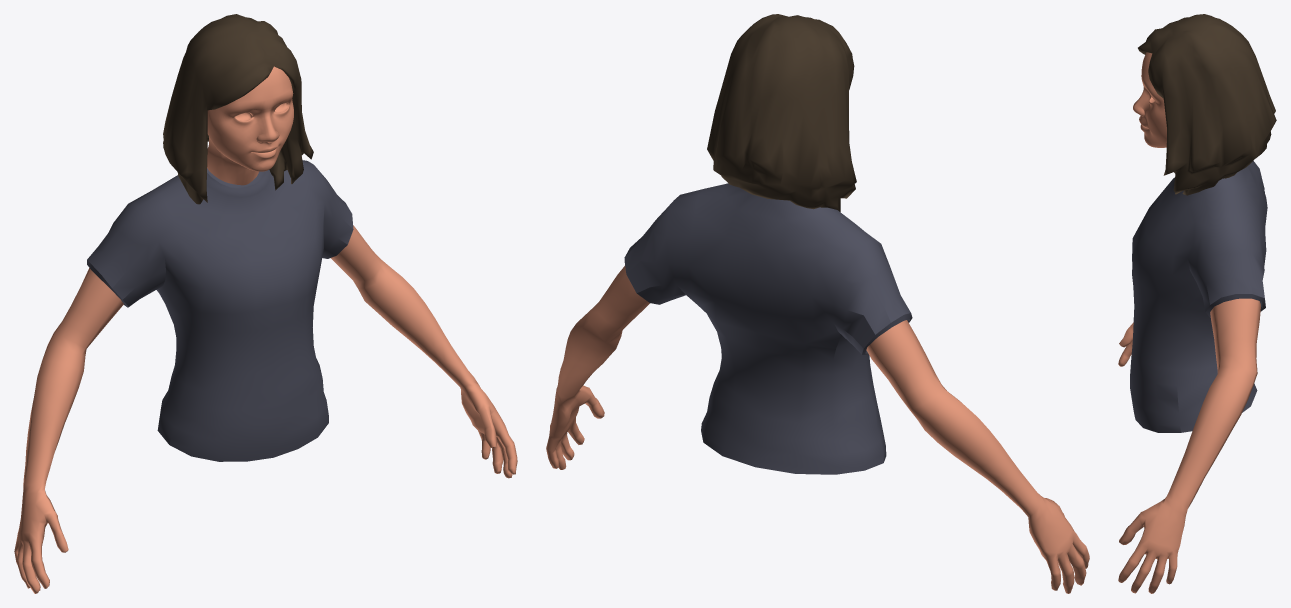
Rendered from woman1_upperBody.glb.
The picture shows the model from 3 angles, left to right: view 1: azimuth 30°, elevation 25°; view 2: azimuth 150°, elevation 25°; view 3: azimuth 270°, elevation 25°; orthographic projection. The views are drawn at different scales.
Parts seen in each view (by area): view 1: Wolf3D_Outfit_Top, Wolf3D_Body.001, Wolf3D_Hair, Wolf3D_Head; view 2: Wolf3D_Outfit_Top, Wolf3D_Hair, Wolf3D_Body.001; view 3: Wolf3D_Outfit_Top, Wolf3D_Hair, Wolf3D_Body.001, Wolf3D_Head.
Boxes of the visible parts, <box> form: Wolf3D_Outfit_Top: <box>87,160,353,461</box>; Wolf3D_Body.001: <box>14,225,517,593</box>; Wolf3D_Hair: <box>163,14,313,204</box>; Wolf3D_Head: <box>207,66,293,185</box>; Wolf3D_Outfit_Top: <box>624,183,912,474</box>; Wolf3D_Hair: <box>707,14,856,211</box>; Wolf3D_Body.001: <box>546,266,1089,593</box>; Wolf3D_Outfit_Top: <box>1130,161,1267,432</box>; Wolf3D_Hair: <box>1138,14,1276,195</box>; Wolf3D_Body.001: <box>1118,298,1260,593</box>; Wolf3D_Head: <box>1133,52,1166,147</box>.
Bounding box in the file's own units: 9.48 × 9.13 × 2.82.
3 materials, 1 textured.
